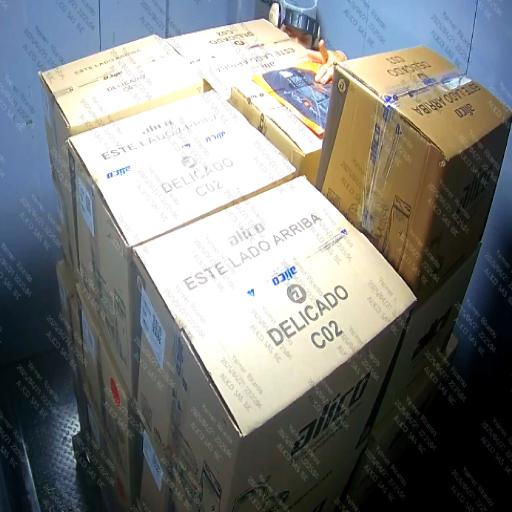Caja no amarrada: (33, 11, 509, 497)
